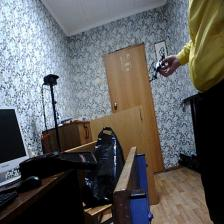drone: (145, 47, 172, 83)
